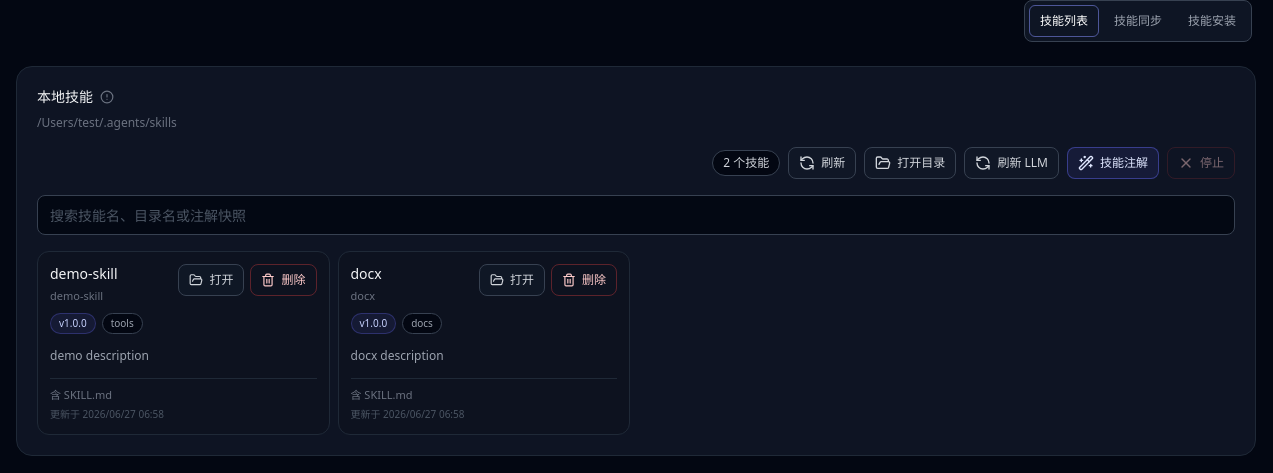
it: SkillsPage › shows progress immediately when running global update
The image size is (1273, 473).
Expected: the heading "本地技能" is shown, [37,87,93,107]
Click the button "技能安装" at (1212, 21), box [1177,5,1247,37]
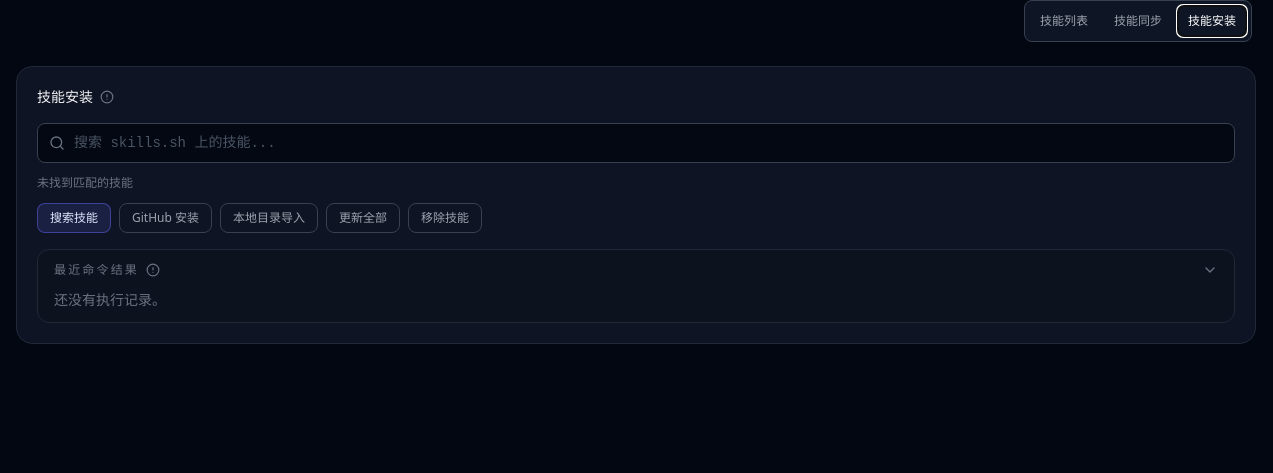
Click the button "更新全部" at (363, 218), box [326,203,400,233]
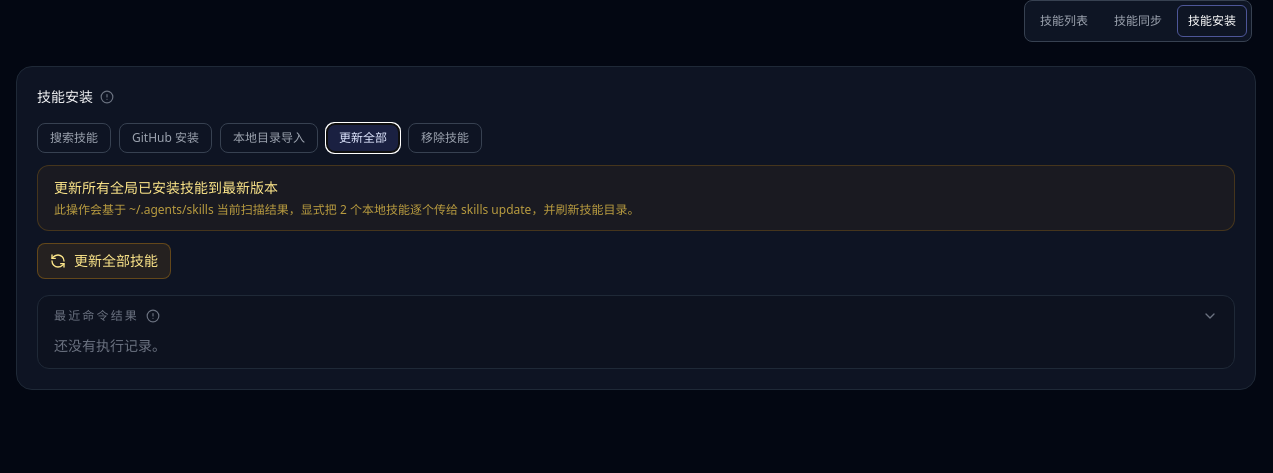
Click the button "更新全部技能" at (104, 261), box [37,243,171,279]
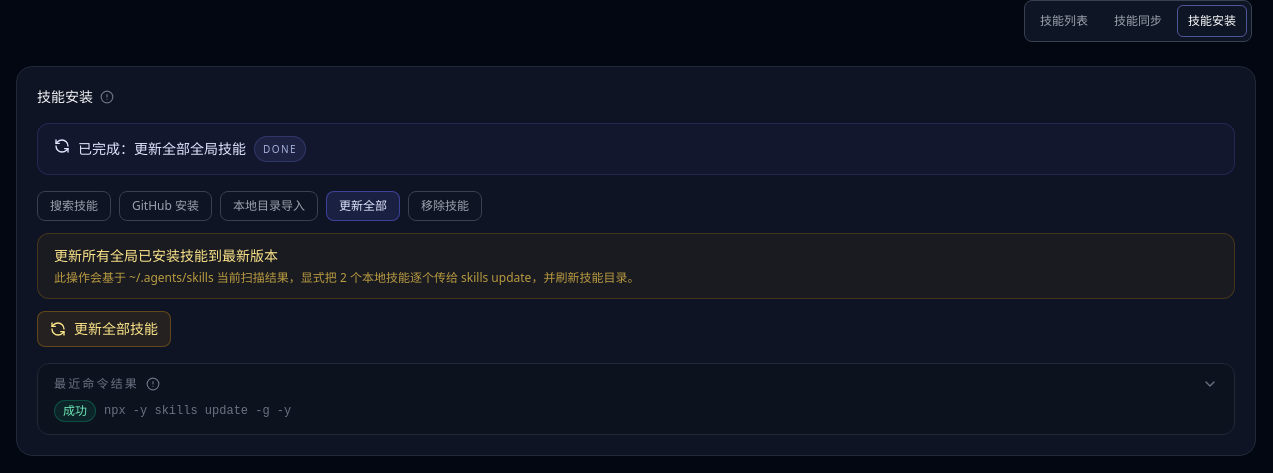
Expected: the text "开始更新全部：更新全部全局技能" is shown, [78,139,246,159]
